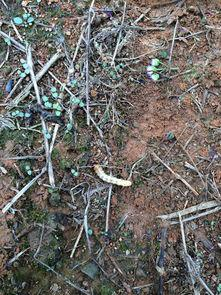grub: (92, 163, 138, 194)
